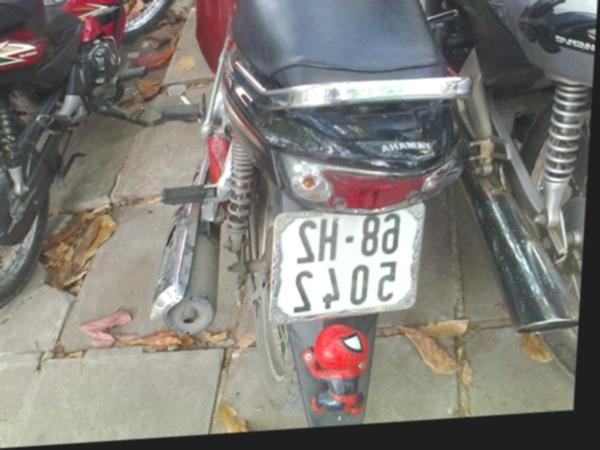License_Plate: (272, 204, 418, 321)
